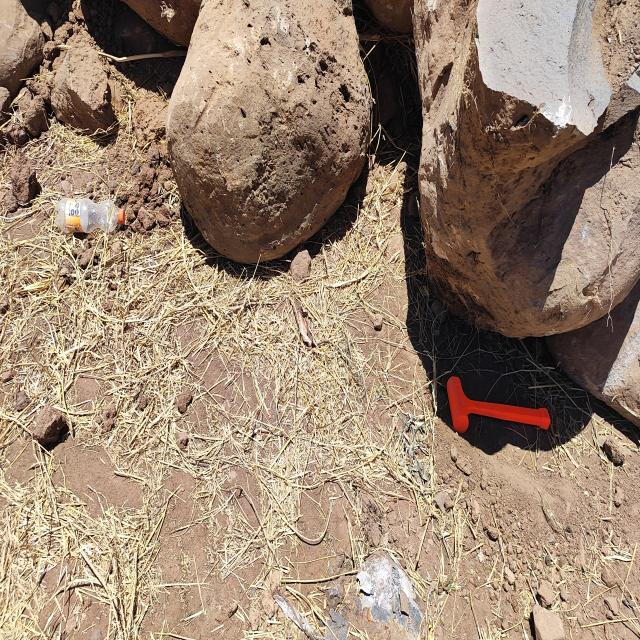Orange_hammer: (446, 374, 551, 434)
